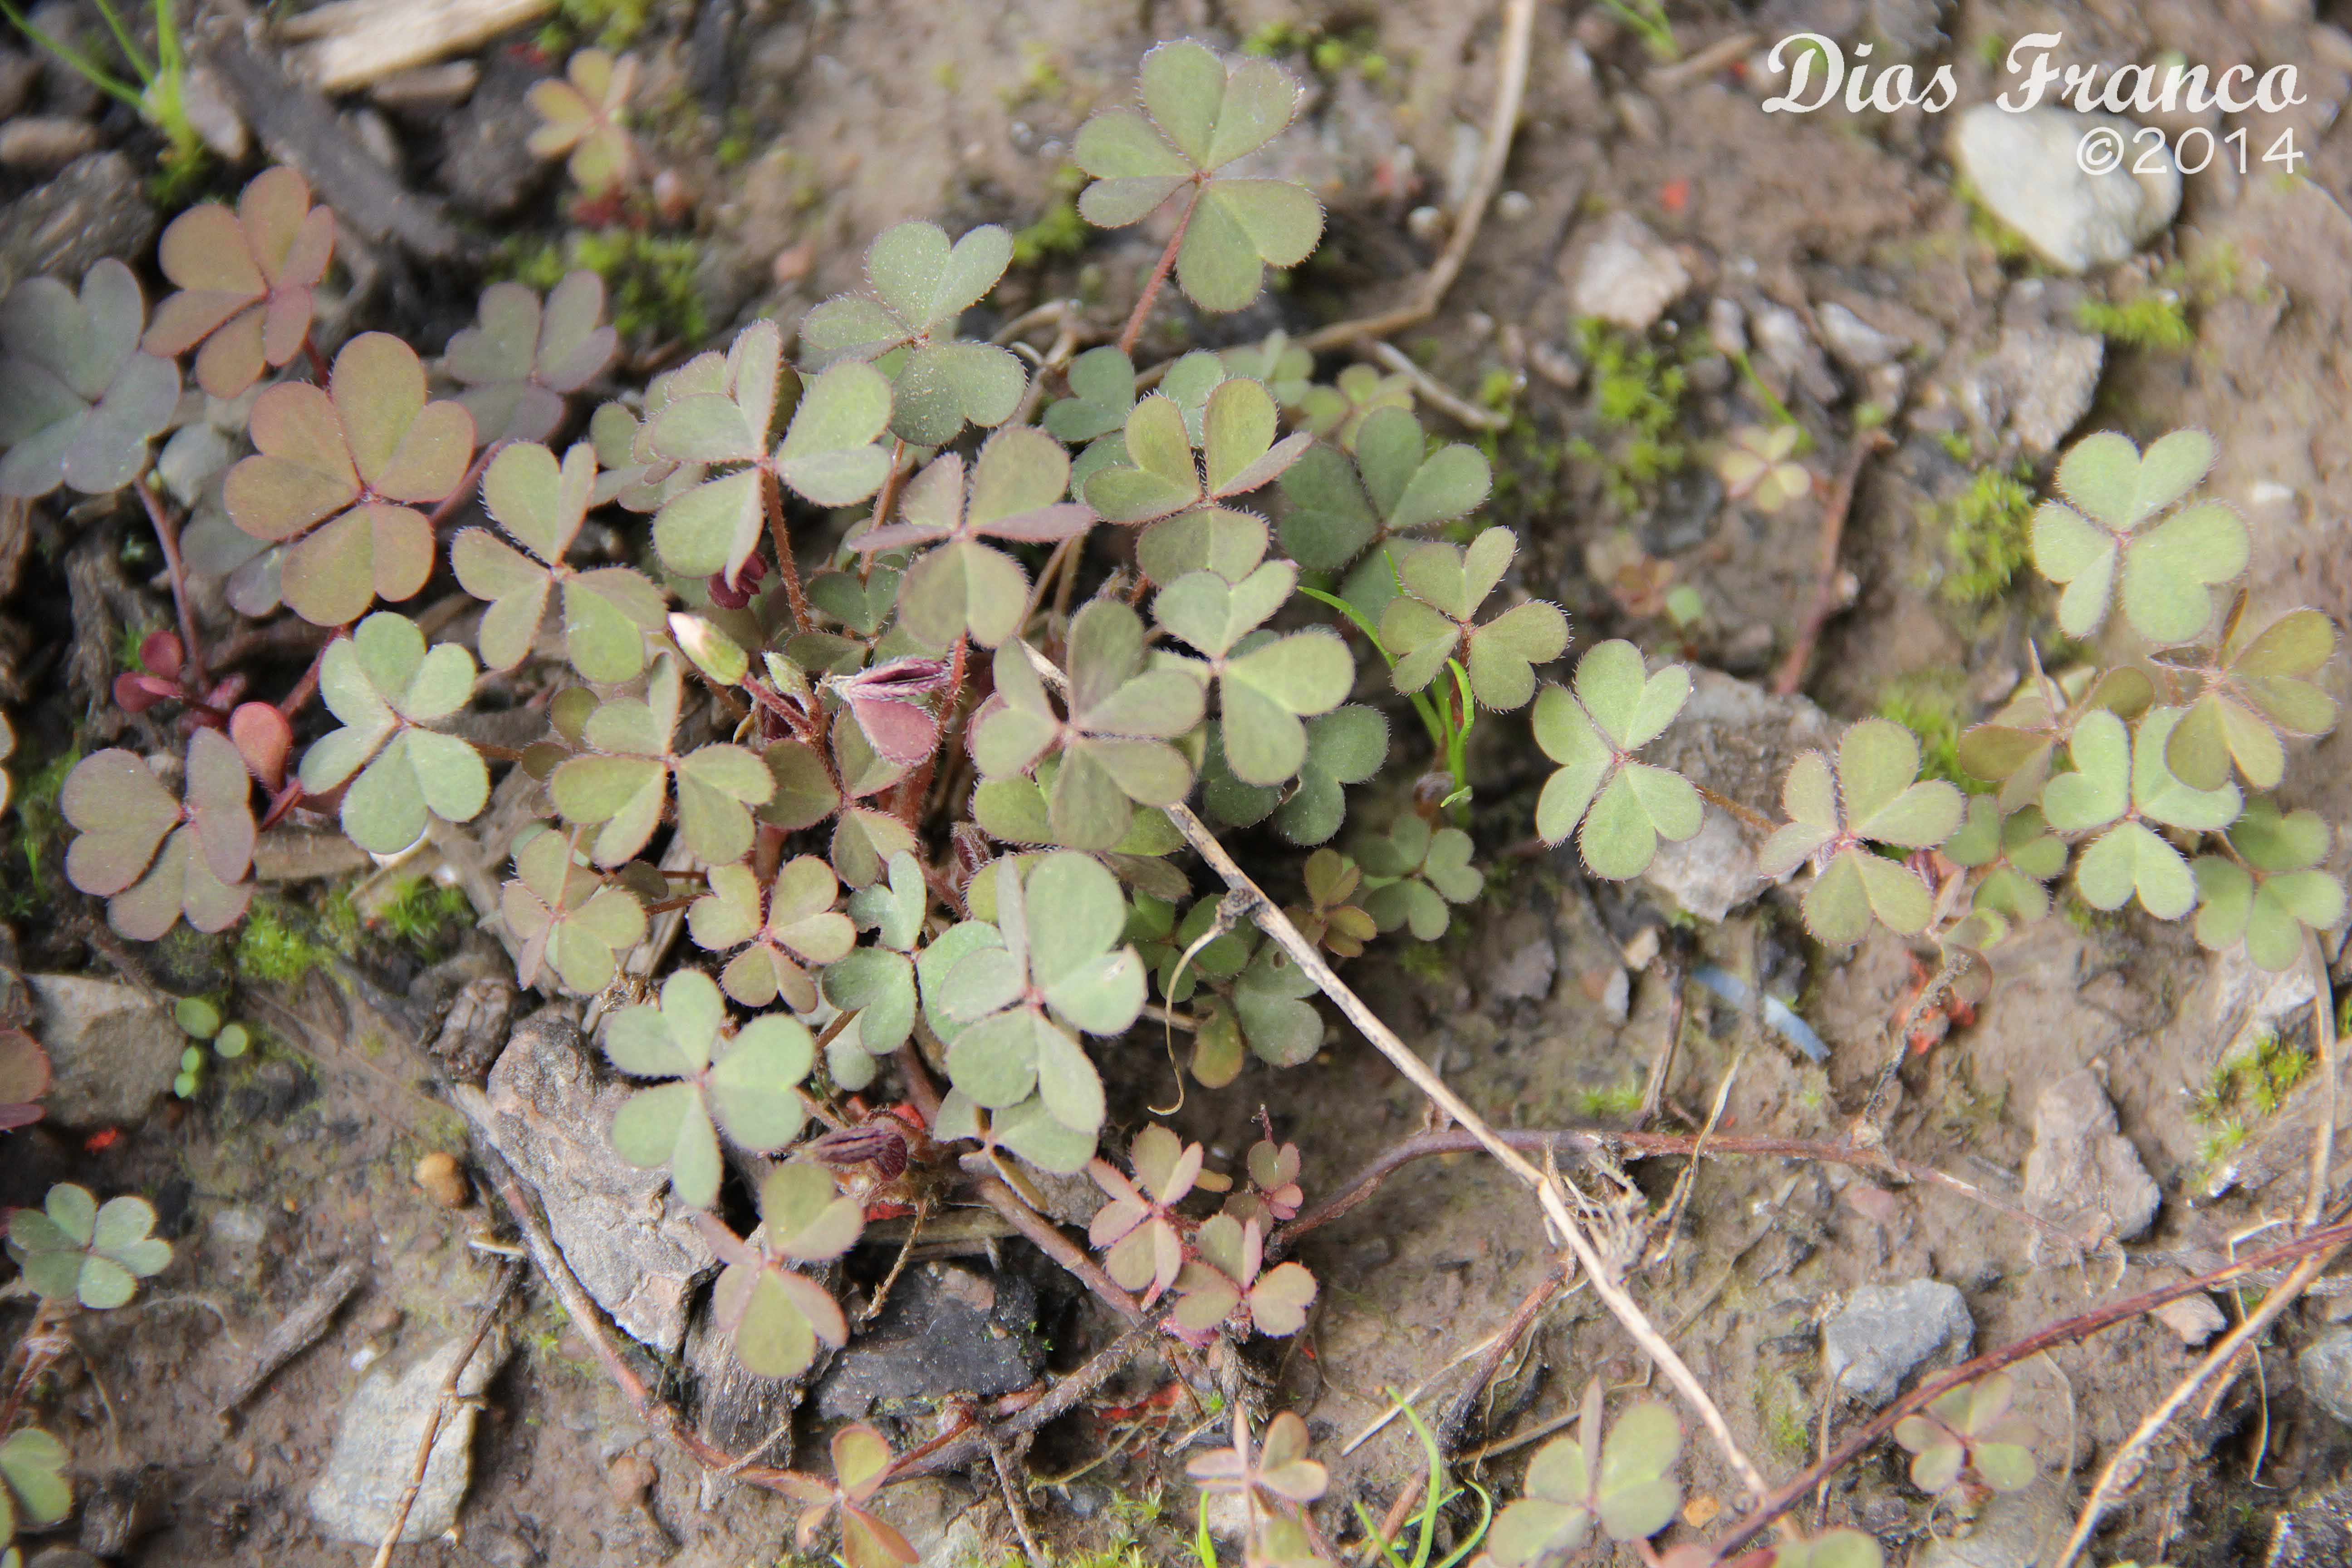oxalis: (247, 229, 1622, 1316), (1818, 360, 2352, 973)
